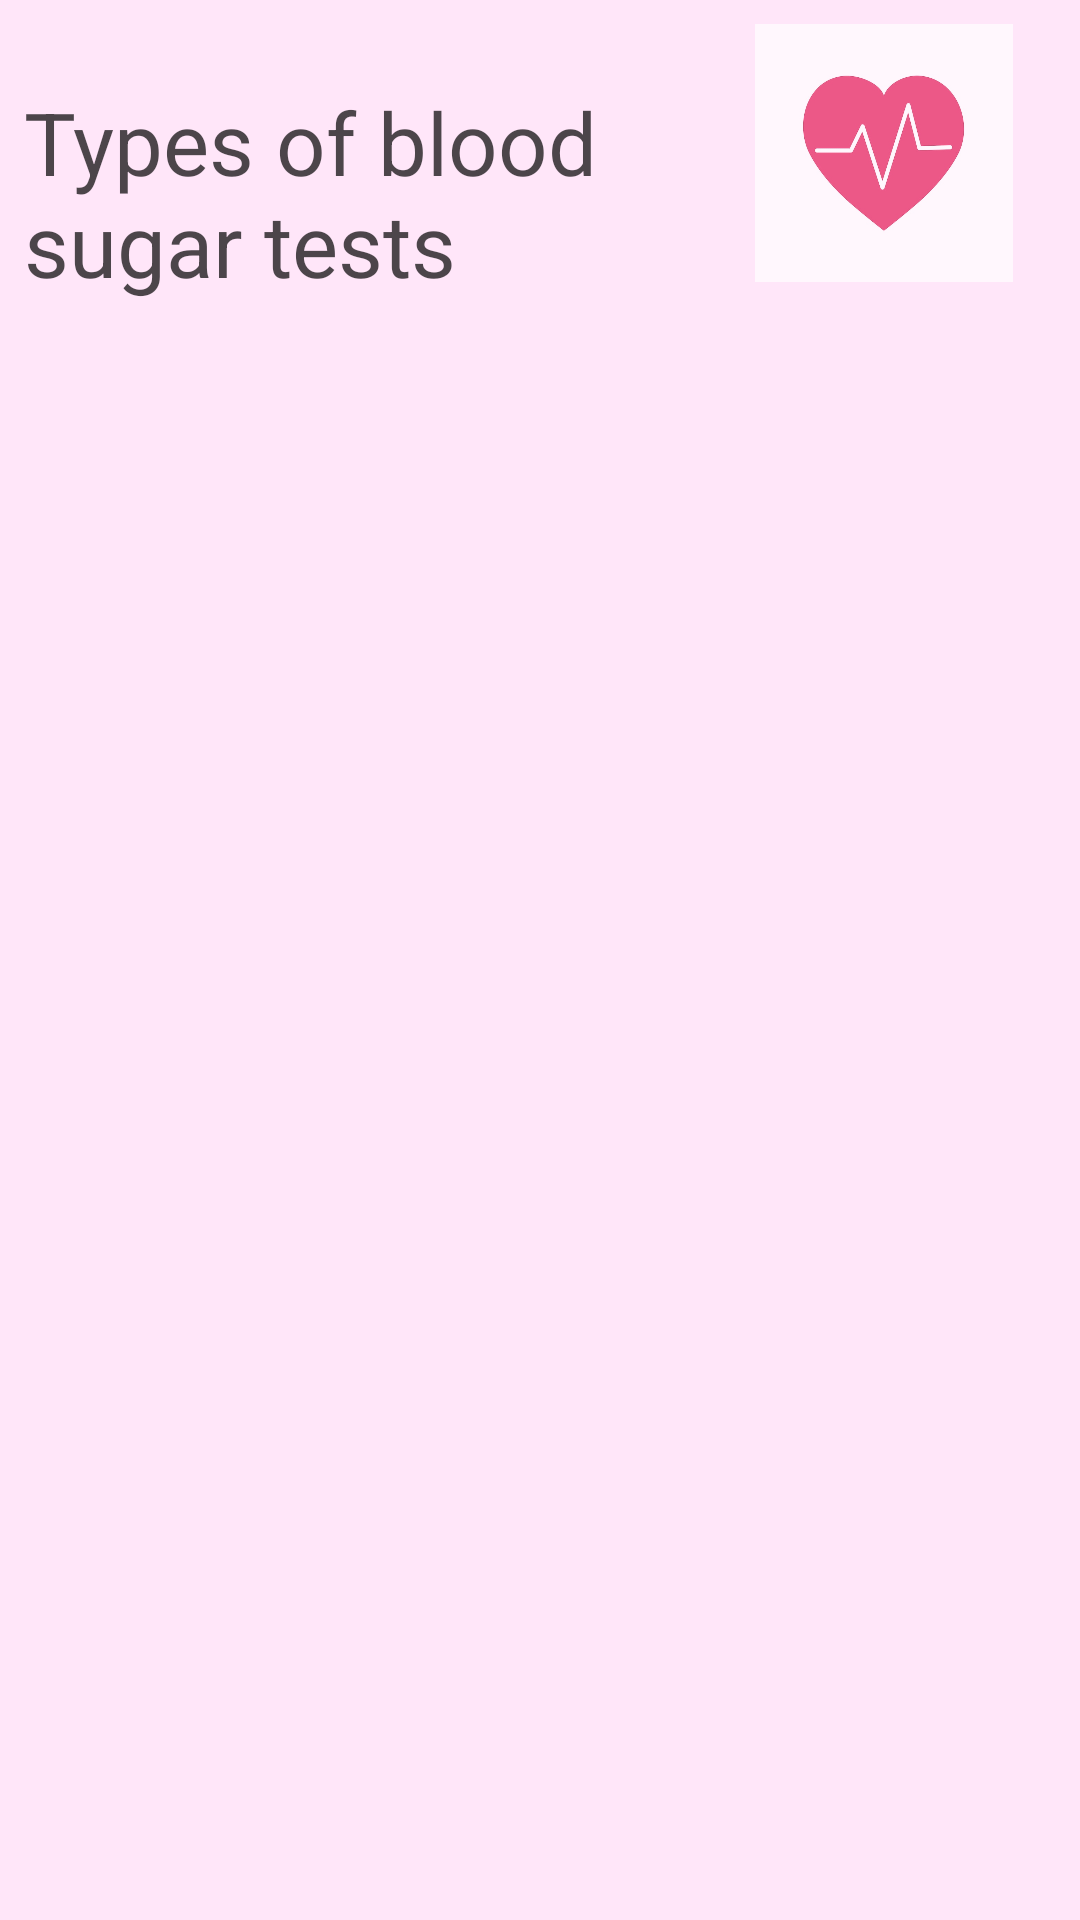

Where to tap for icons on this 1080 × 1920 app screen, as (x=x, y=y):
healthy: (x=883, y=153)
